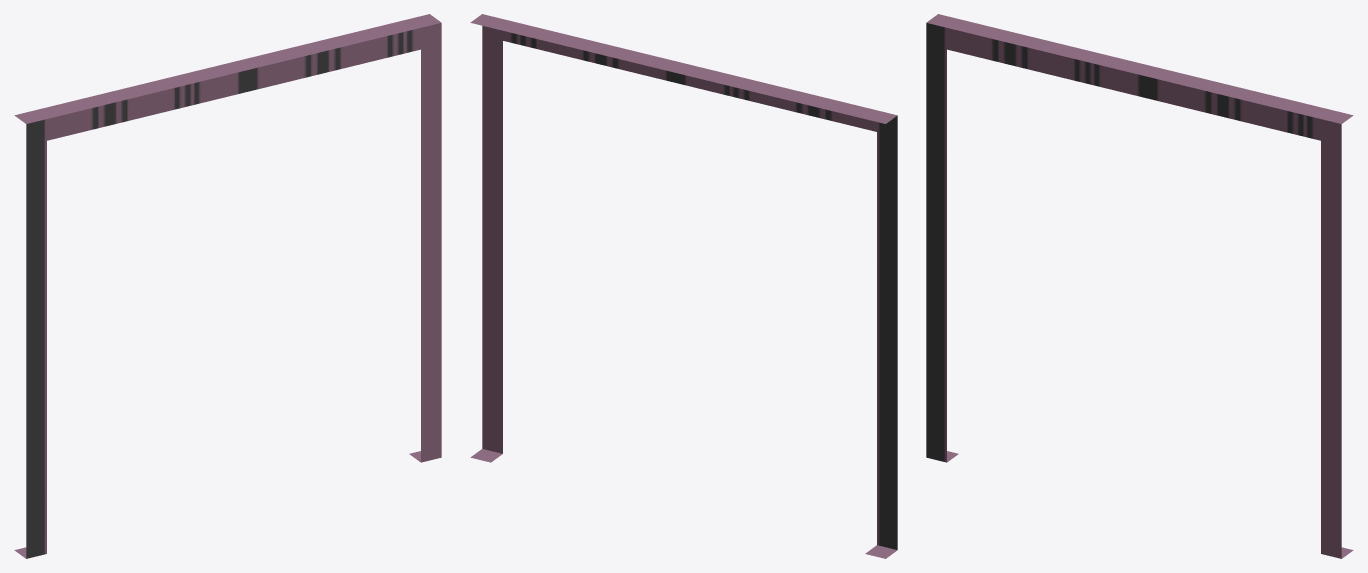
Rendered from Int-V3GarageFrameStripes.fbx.
3 renders of one model, left to right at view 1: azimuth 30°, elevation 25°; view 2: azimuth 150°, elevation 25°; view 3: azimuth 330°, elevation 25°, orthographic.
Parts seen in each view (by area): view 1: Int-V3GarageFrameStripes; view 2: Int-V3GarageFrameStripes; view 3: Int-V3GarageFrameStripes.
Part boxes in pixels (x1=…): Int-V3GarageFrameStripes: x1=14, y1=14, x2=441, y2=558; Int-V3GarageFrameStripes: x1=470, y1=14, x2=897, y2=558; Int-V3GarageFrameStripes: x1=926, y1=14, x2=1353, y2=558.
Bounding box in the file's own units: 200 × 200 × 10.
